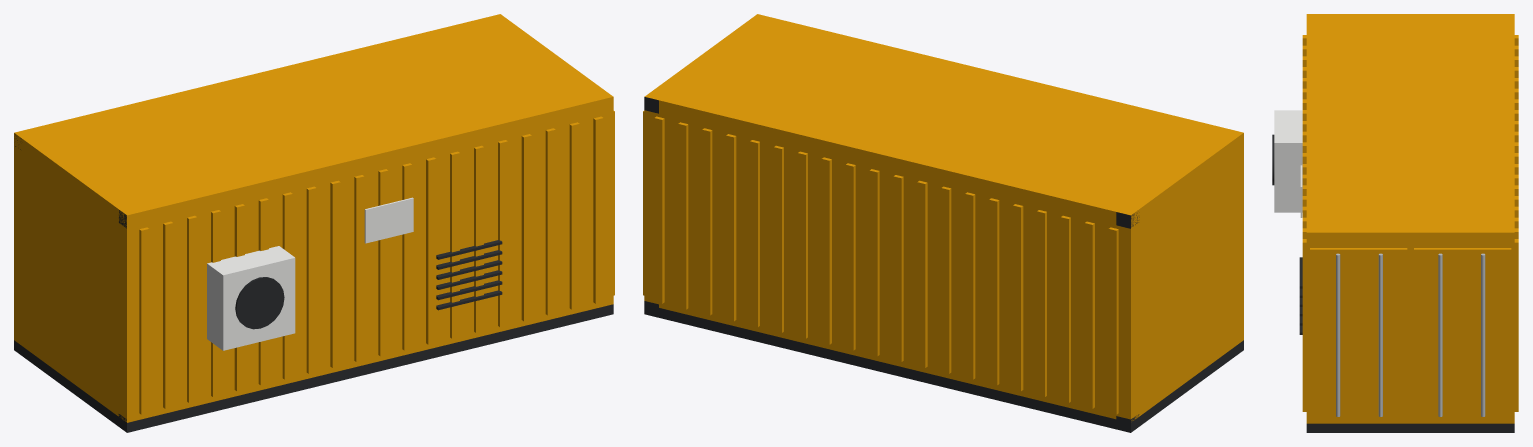
File: contenedor_bess.glb
3 views of the same model, side by side, from view 1: azimuth 30°, elevation 25°; view 2: azimuth 150°, elevation 25°; view 3: azimuth 270°, elevation 25° (orthographic). The views are drawn at different scales.
Parts seen in each view (by area): view 1: Contenedor BESS 20 pies; view 2: Contenedor BESS 20 pies; view 3: Contenedor BESS 20 pies.
Boxes of the visible parts, left/top/right/bottom form: Contenedor BESS 20 pies: left=14, top=14, right=614, bottom=432; Contenedor BESS 20 pies: left=643, top=14, right=1243, bottom=432; Contenedor BESS 20 pies: left=1272, top=14, right=1518, bottom=432.
Size of the model in its own units: 6.16 by 2.59 by 2.89.
